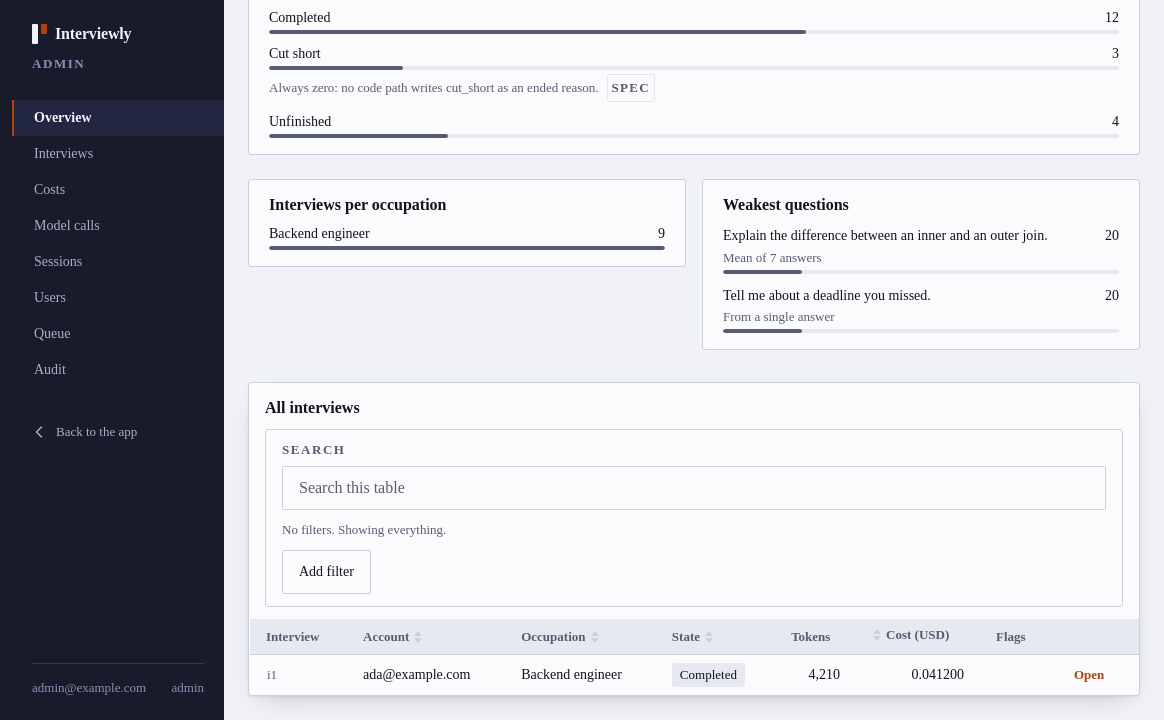
Test: admin list + stats (W11) › removes a filter from its chip without disturbing the search words
(page scrolled)
Type "ada" into the search field with test id "admin-search" at (694, 488), box [282,466,1106,510]
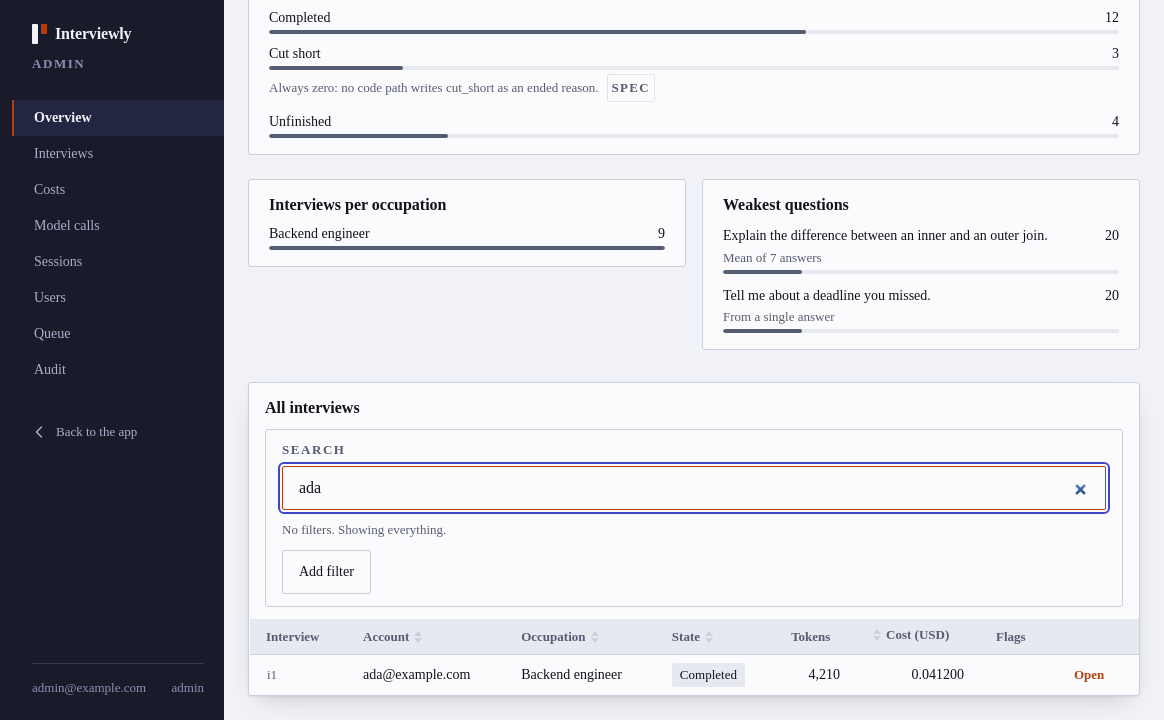
Click the button with test id "admin-filter-add" at (326, 572), box [282,550,371,594]
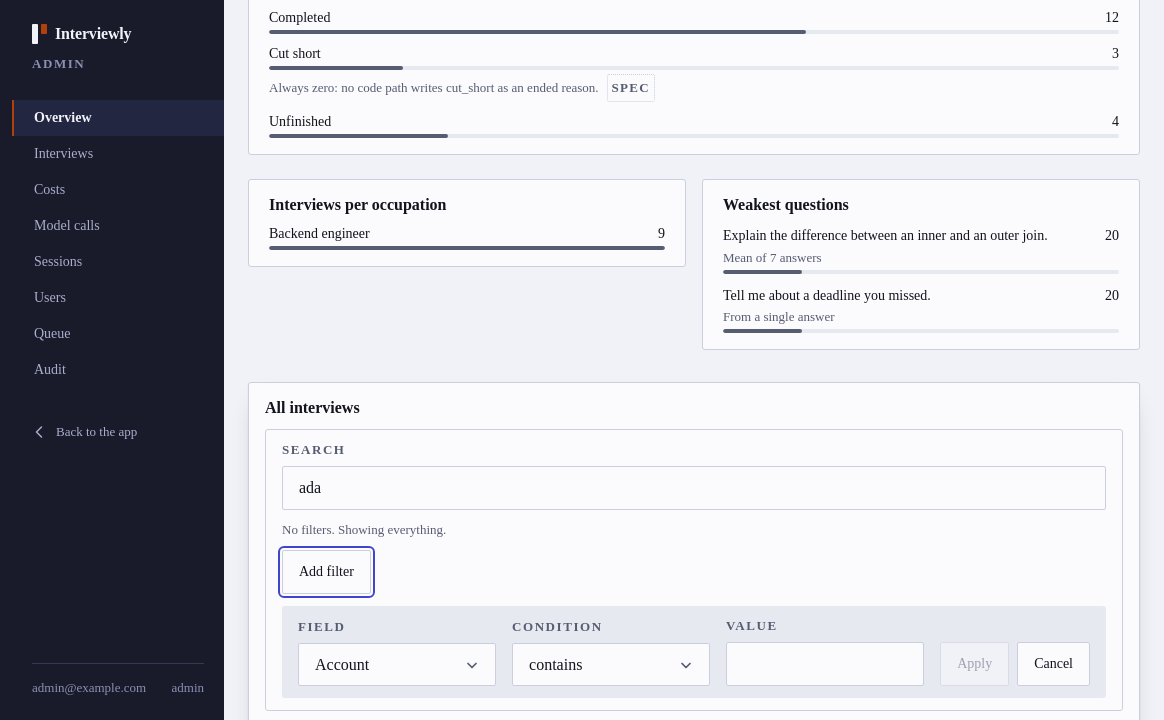
Select "State" in the dropdown with test id "admin-filter-field" at (397, 665), box [298,643,496,686]
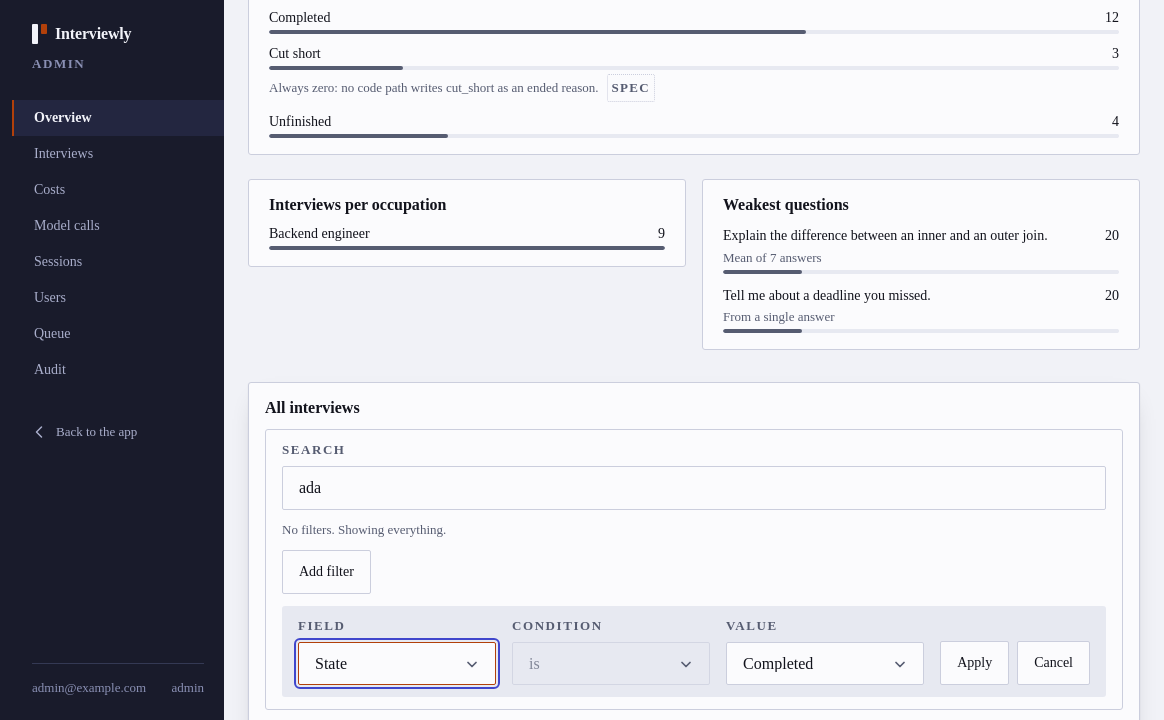
Select "Completed" in the dropdown with test id "admin-filter-value" at (825, 664), box [726,642,924,685]
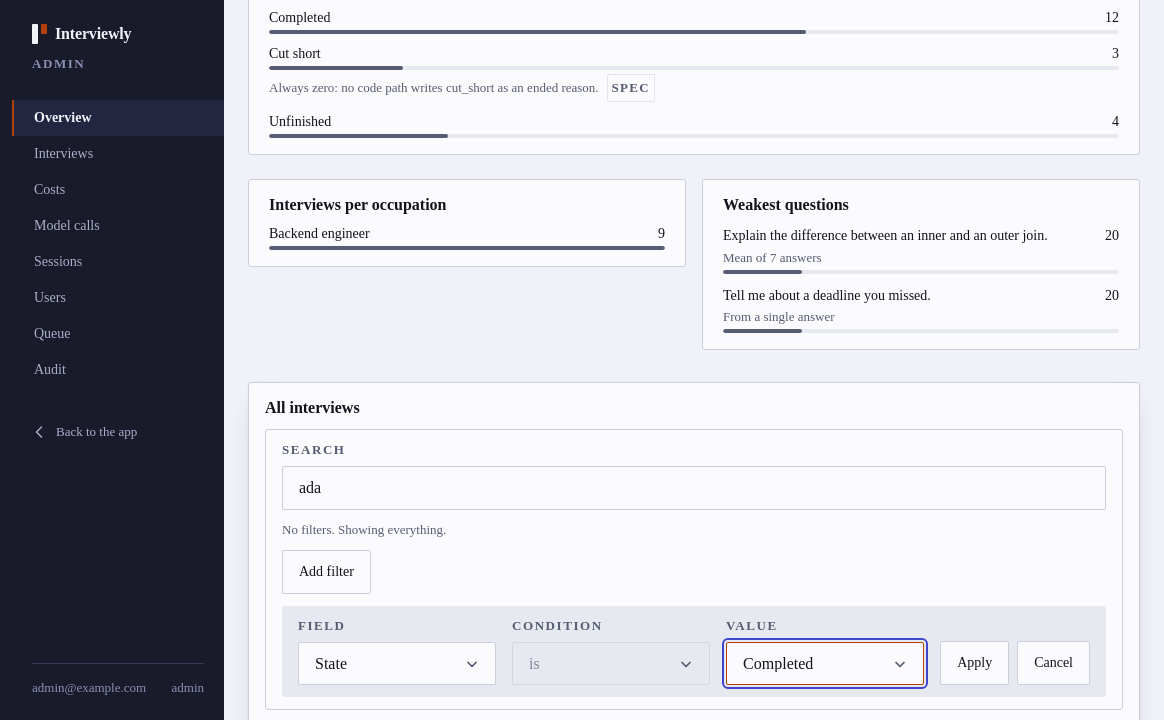
Click the button with test id "admin-filter-apply" at (975, 663), box [940,641,1009,685]
(page scrolled)
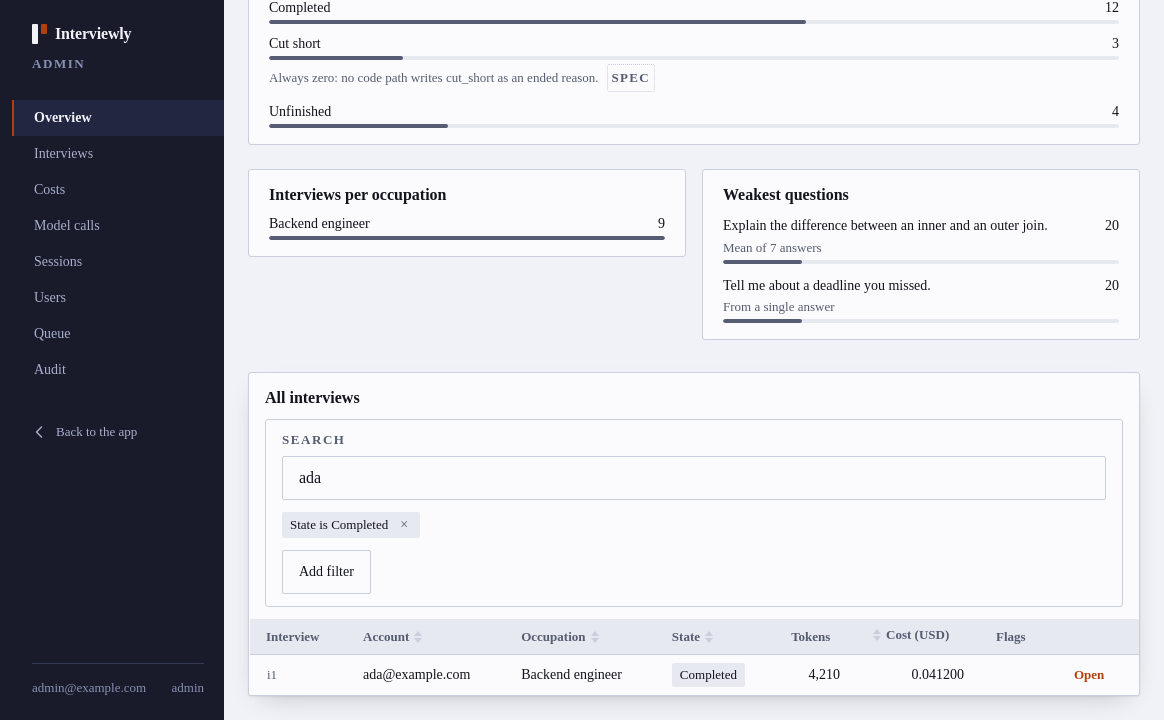
Click the button with test id "admin-filter-remove" at (404, 525), box [392,513,416,537]
(page scrolled)
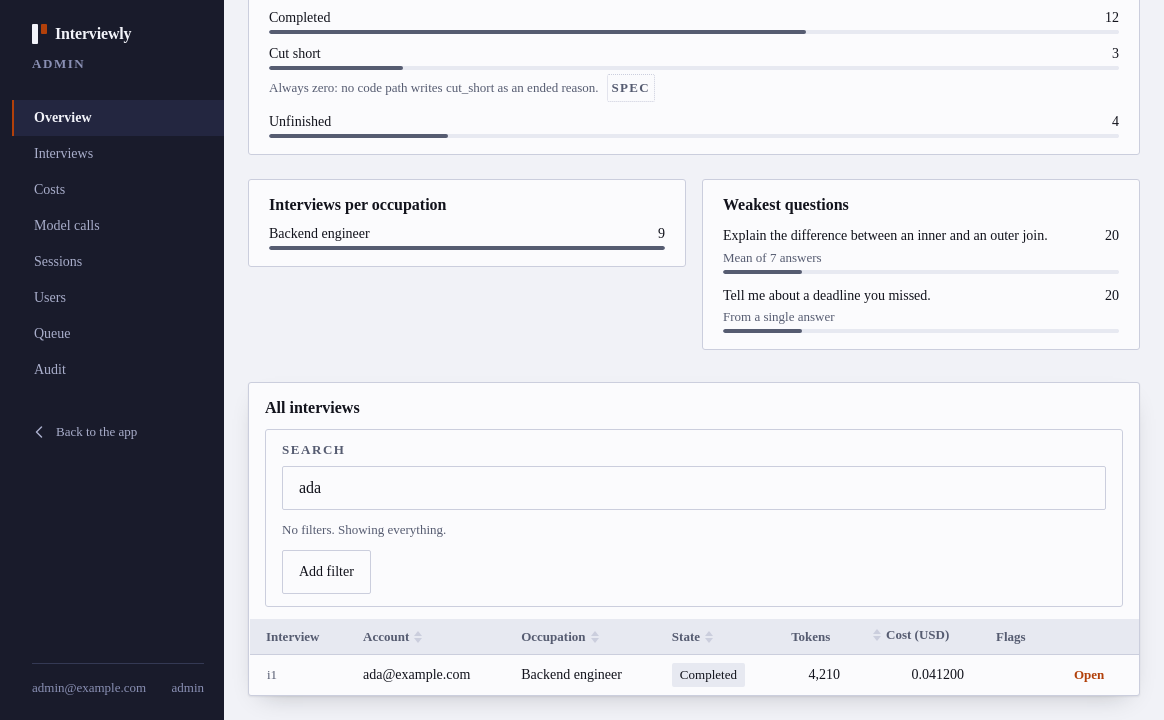
Check: the list item with test id "admin-filter-chip" is gone
Check: the search field with test id "admin-search" holds "ada", box [282,466,1106,510]
